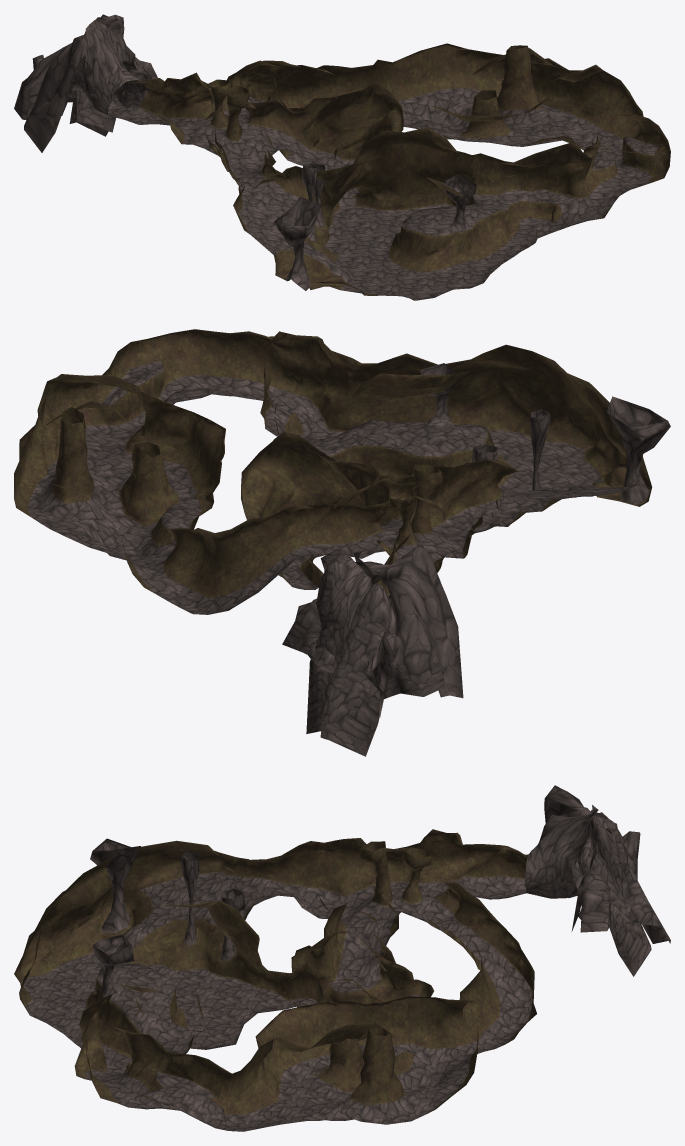
File: Cave.glb
3 renders of one model, top to bottom at view 1: azimuth 30°, elevation 25°; view 2: azimuth 150°, elevation 25°; view 3: azimuth 270°, elevation 25°, orthographic. The views are drawn at different scales.
Visible parts, largest first — view 1: Cave; view 2: Cave; view 3: Cave.
Boxes of the visible parts, bbox=[...] form: Cave: bbox=[14, 14, 670, 300]; Cave: bbox=[14, 329, 670, 756]; Cave: bbox=[14, 785, 670, 1131].
Size of what is drawn, in the model's own units: 145 by 42.07 by 156.
2 materials, 2 textured.
